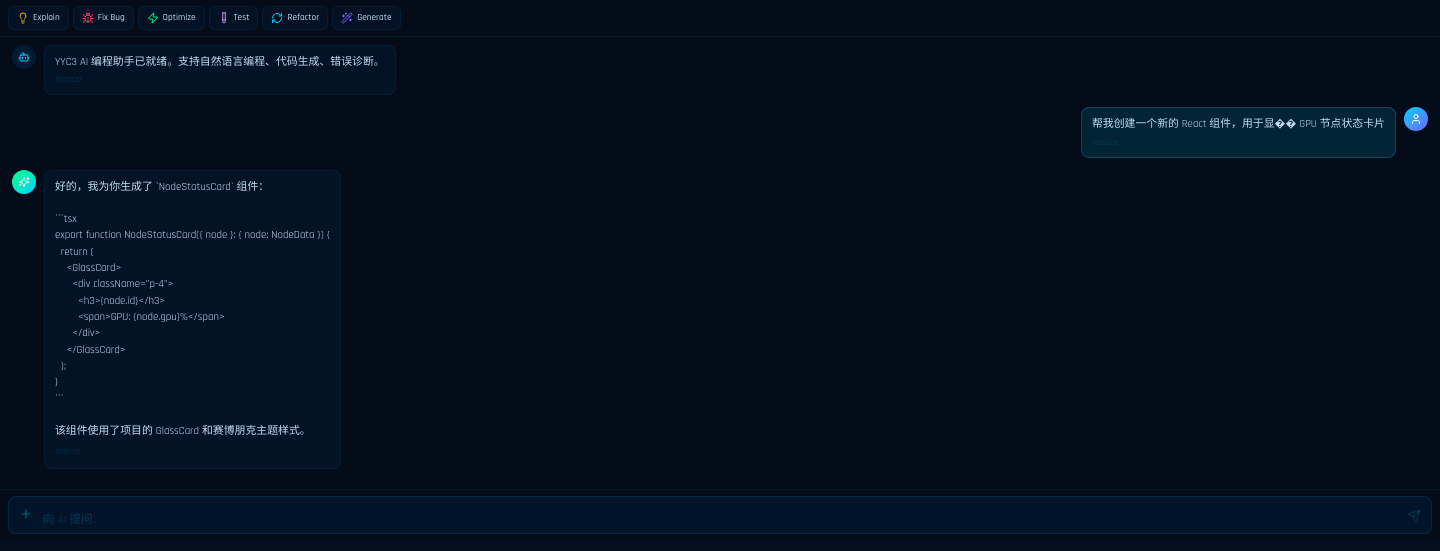
Test case: AIChatPanel › 附件菜单 › 点击 Plus 打开菜单, 选择后关闭
Click the 7th button.
click(26, 514)  # box [13,500,39,526]
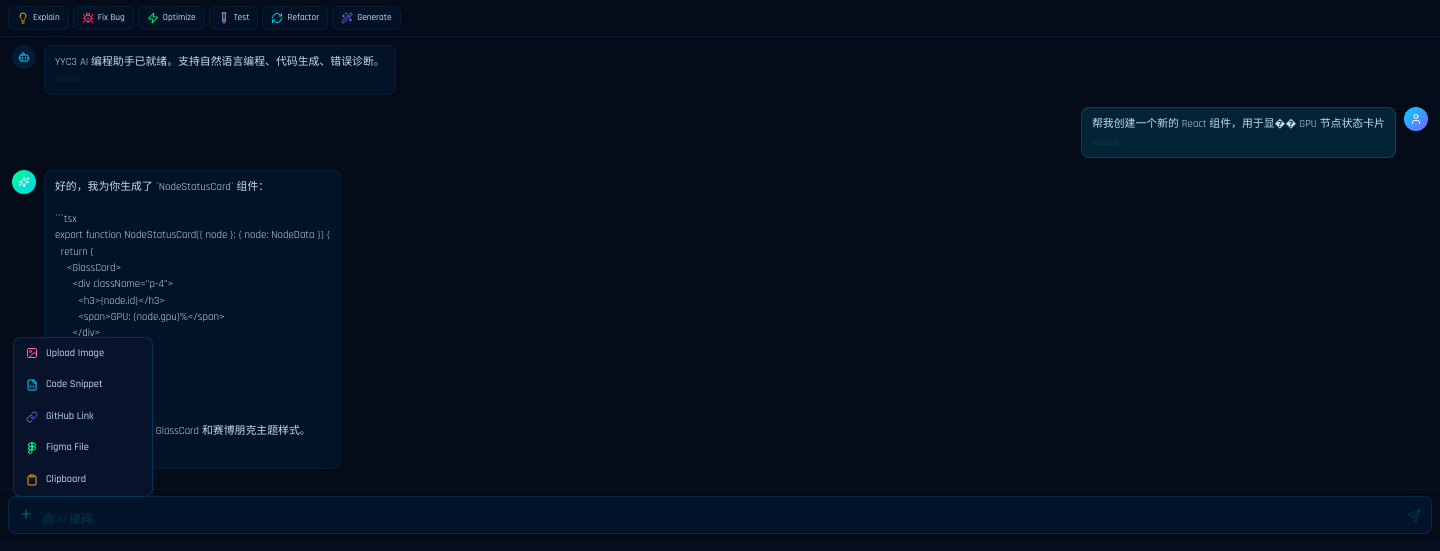
Result: the text "Upload Image" is shown at [46,346,104,361]
Result: the text "Figma File" is shown at [46,440,89,456]
Click the button "GitHub Link".
click(83, 416)  # box [14,401,152,432]
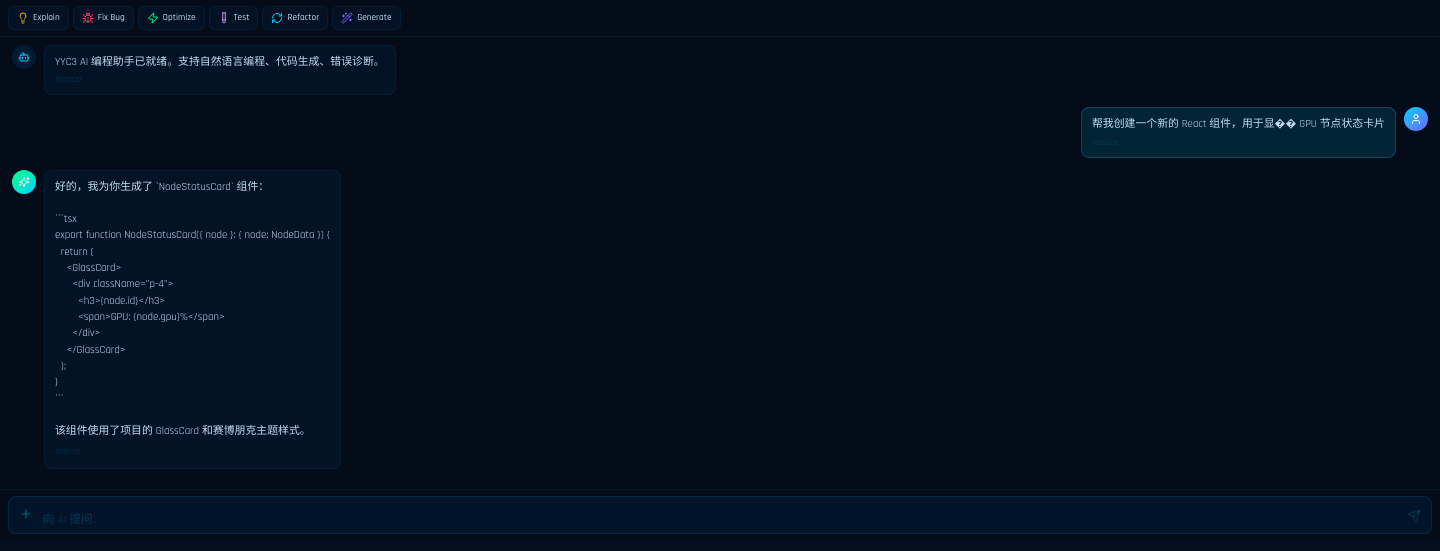
Result: the button "Upload Image" is gone
